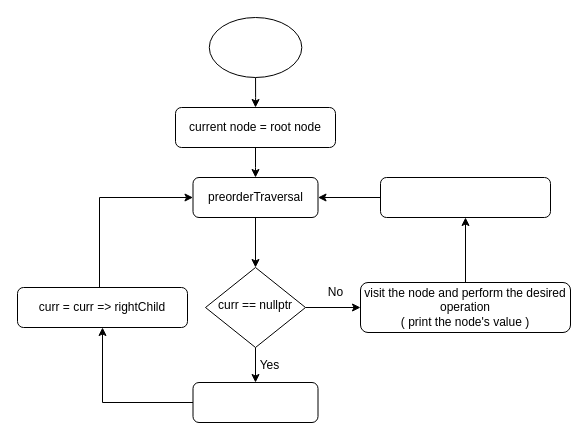
Image size: 588x440. Some labels were removed from this diagram. Each missing label, with the box of its shape:
curr = curr => leftChild: (380, 176, 550, 218)
return: (192, 382, 318, 422)
Start: (208, 16, 302, 78)
